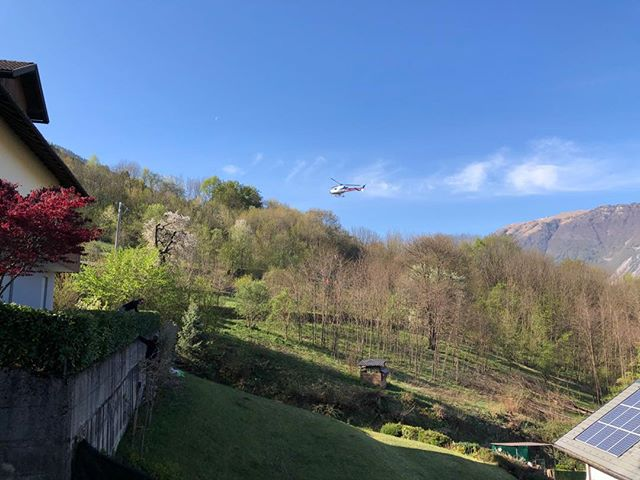building: (1, 54, 100, 355)
helicopter: (326, 169, 370, 200)
sky: (28, 5, 637, 207)
tree: (1, 172, 107, 286)
vegetation: (168, 195, 609, 476)
